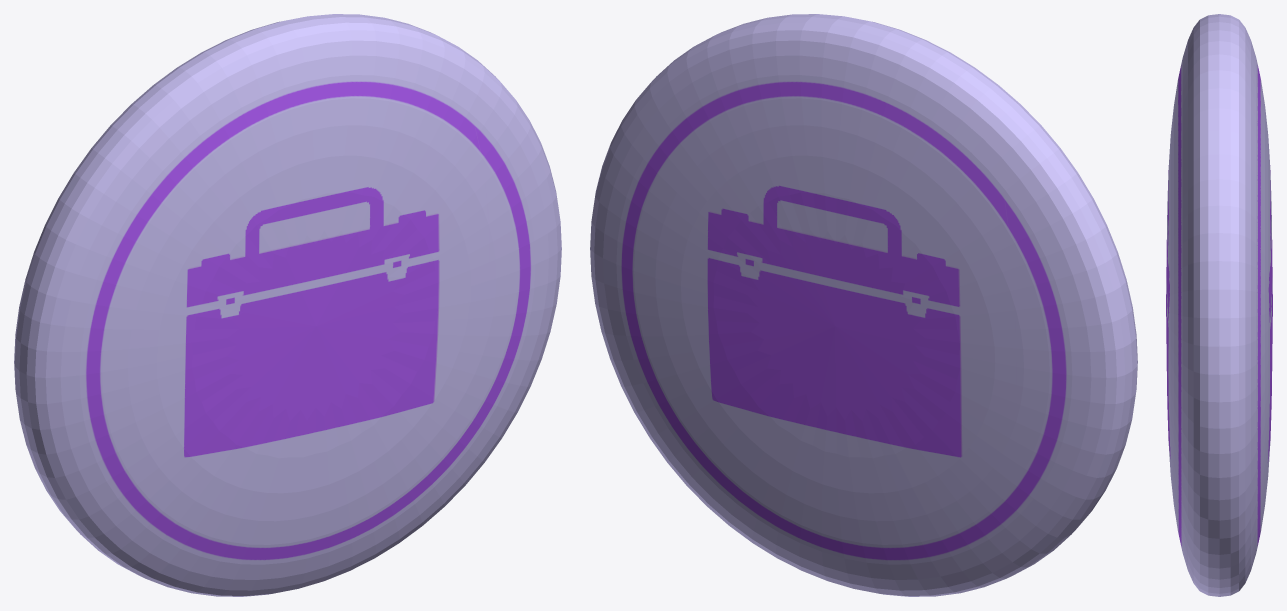
The model's file is work_marker.glb.
3 renders of one model, left to right at view 1: azimuth 30°, elevation 25°; view 2: azimuth 150°, elevation 25°; view 3: azimuth 270°, elevation 25°, orthographic. The views are drawn at different scales.
Visible parts, largest first — view 1: Cylinder; view 2: Cylinder; view 3: Cylinder.
Boxes of the visible parts, x1,y1,x2,y2 form: Cylinder: (14,14,561,596); Cylinder: (590,14,1137,596); Cylinder: (1166,14,1272,596).
Bounding box in the file's own units: 1.98 × 1.98 × 0.3636.
1 material, 1 textured.
